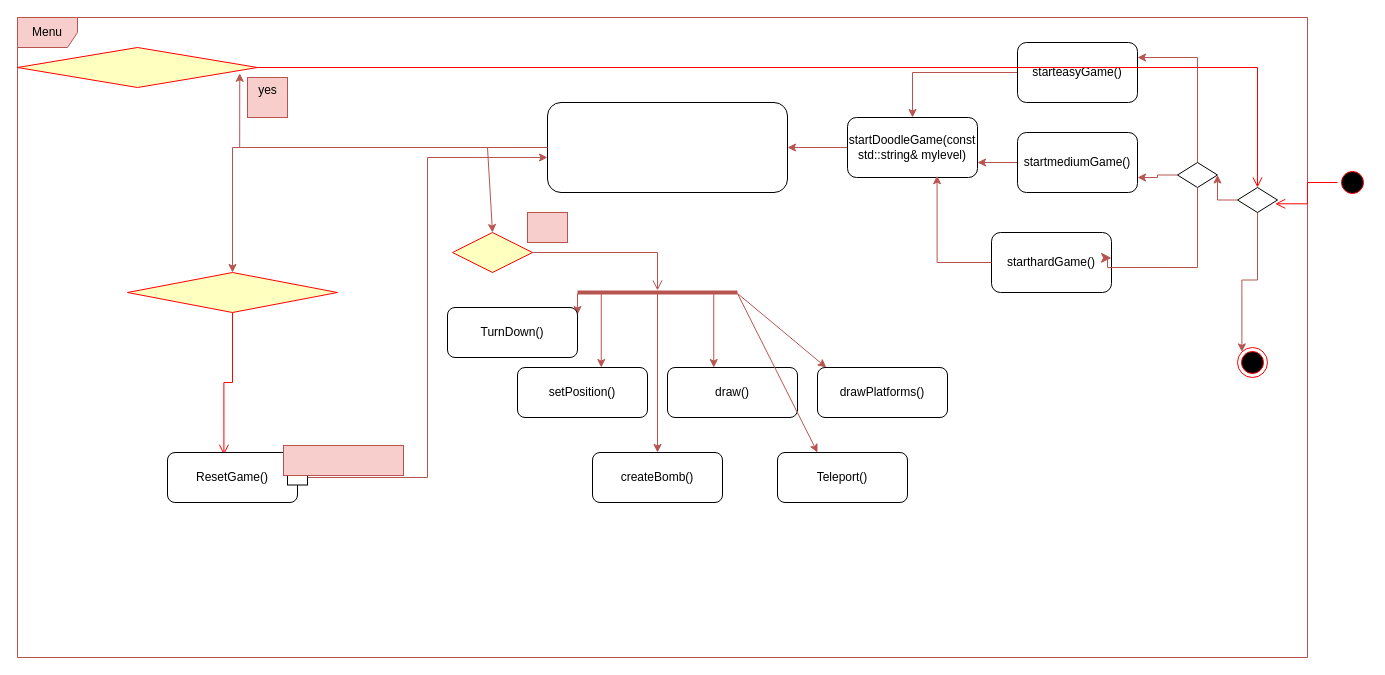
Image size: 1385x675. Some labels were removed from this diagram. The centre of each missing label's shape, as x and y in pixels:
"gameover" belongs at (492,252).
"gameover = false" belongs at (343,460).
"isKeyPressed(Keyboard::Escape)" belongs at (137,67).
"isKeyPressed(sf::Keyboard::F2)" belongs at (232,292).
"no" belongs at (547,227).
"RunGame (.....)" belongs at (667,147).
